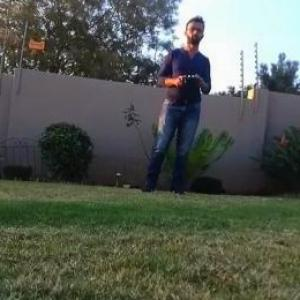follow: (132, 8, 215, 201)
